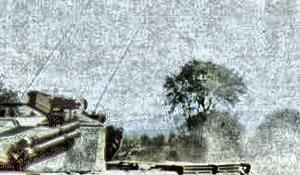tanks: (1, 92, 249, 175)
